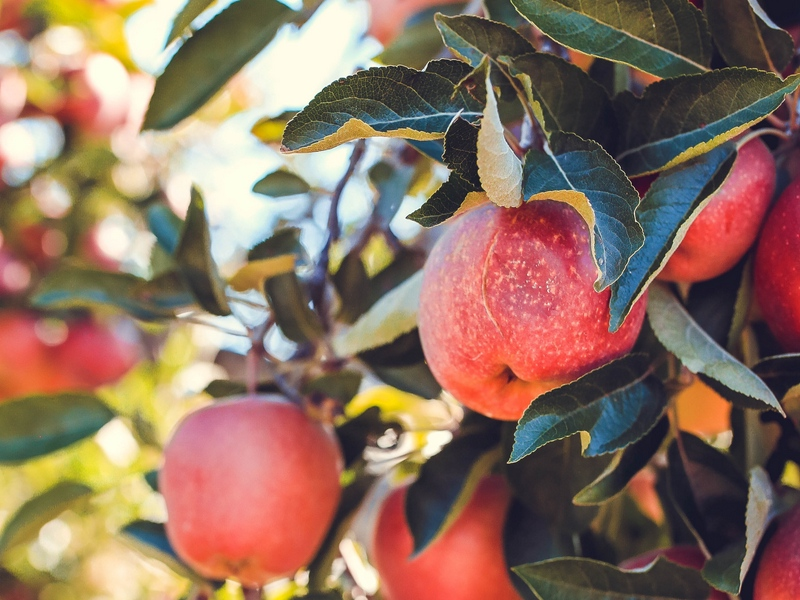elma: (419, 197, 649, 422), (162, 394, 337, 585)
